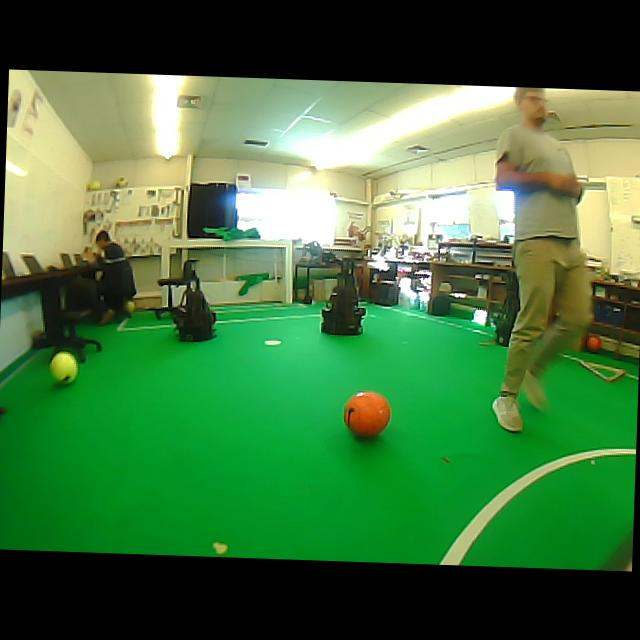ball: (343, 390, 390, 436), (49, 350, 77, 382), (585, 334, 601, 352), (124, 299, 134, 316), (115, 175, 127, 188), (87, 180, 101, 189)
goal: (284, 240, 292, 302)
robot: (173, 259, 214, 340), (321, 259, 364, 334), (495, 270, 519, 345)
